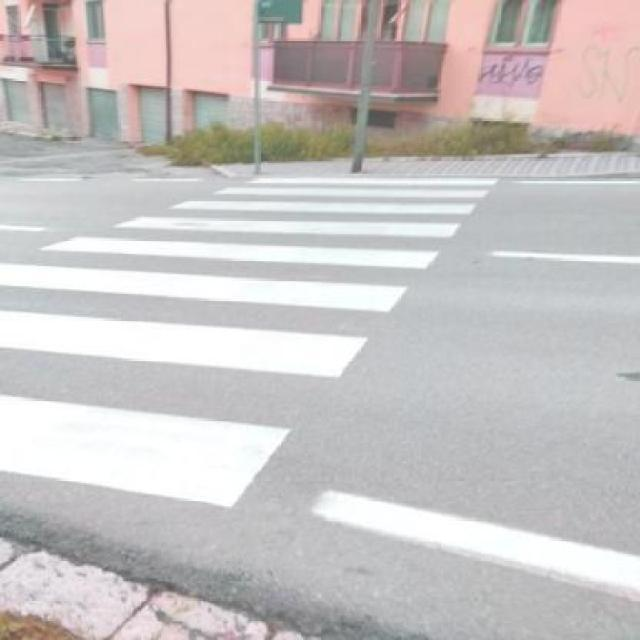crosswalk: (1, 176, 499, 510)
